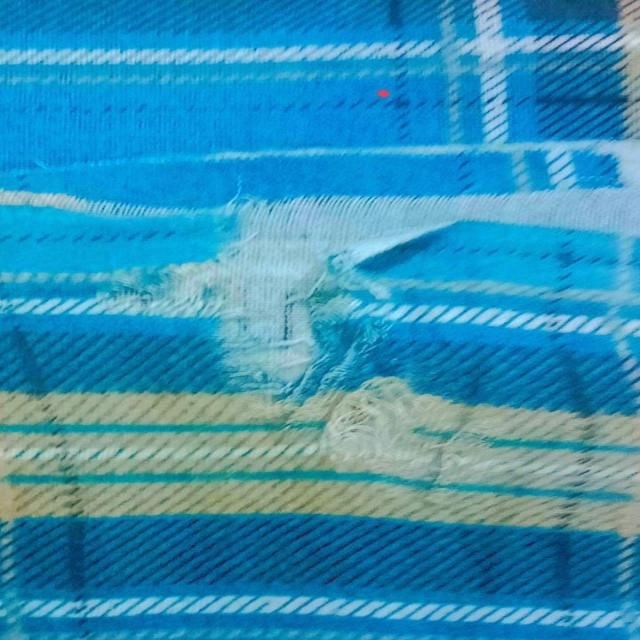cut: (195, 244, 358, 386), (323, 368, 398, 474)
